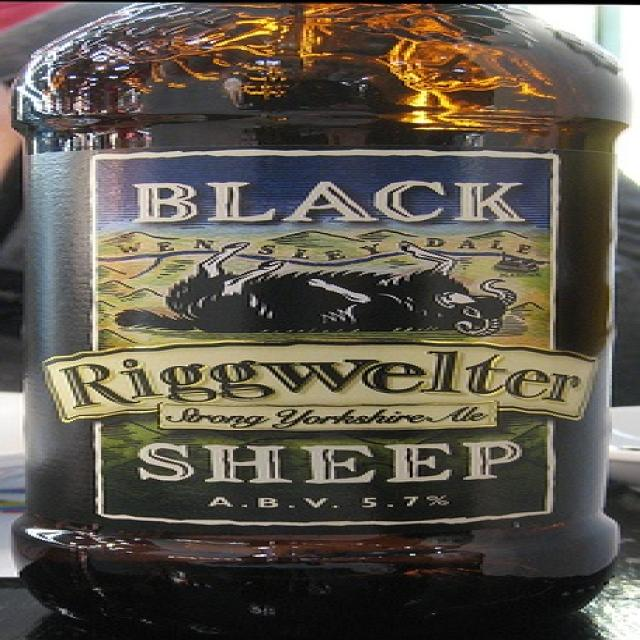bottle: (6, 0, 628, 634)
